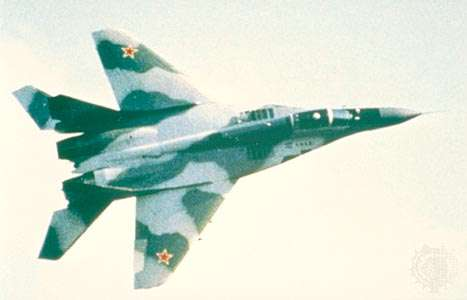Mig-29: (15, 14, 436, 282)
